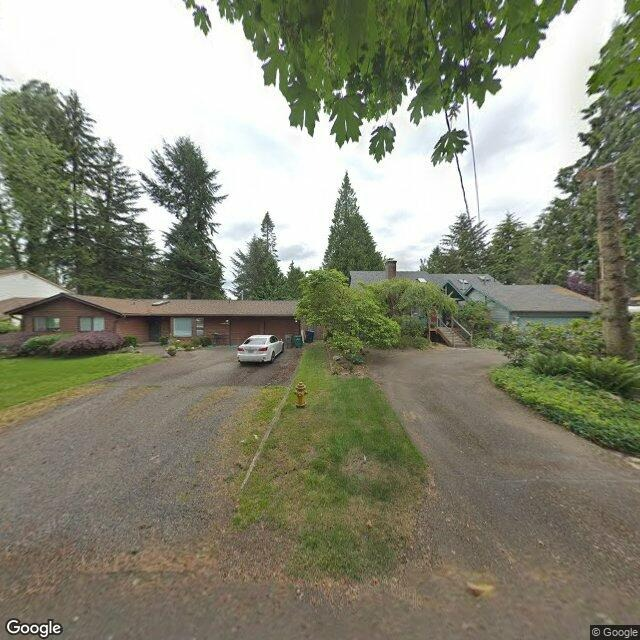hydrant: (286, 377, 309, 417)
